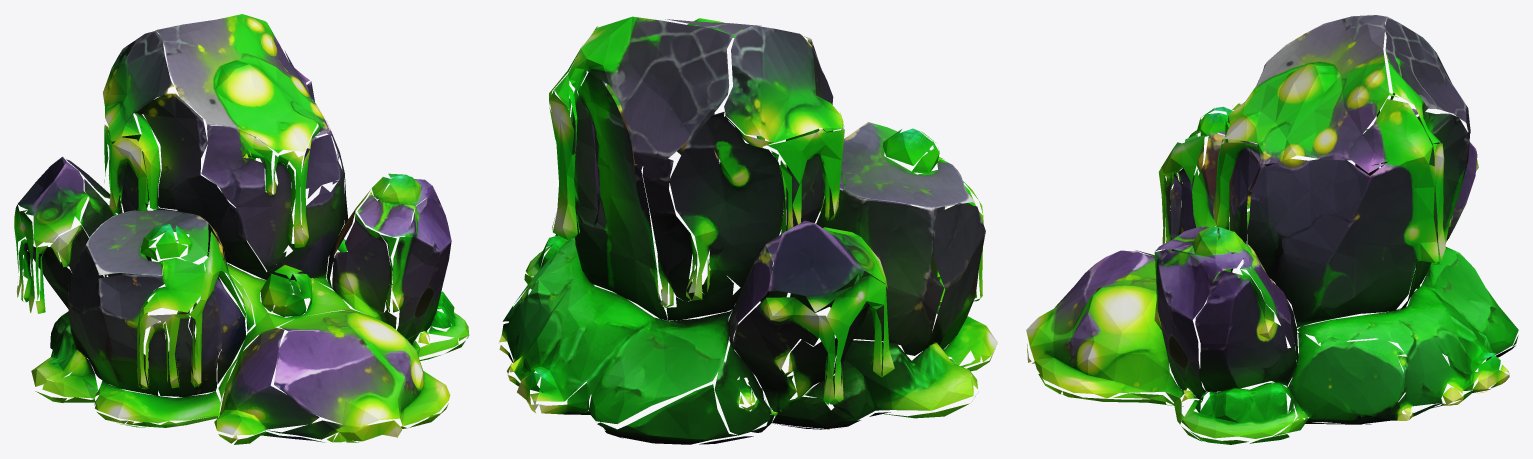
Rendered from defDecorRocks_lo.glb.
3 views of the same model, side by side, from view 1: azimuth 30°, elevation 25°; view 2: azimuth 150°, elevation 25°; view 3: azimuth 270°, elevation 25° (orthographic). The views are drawn at different scales.
Parts seen in each view (by area): view 1: geometry_0; view 2: geometry_0; view 3: geometry_0.
Boxes of the visible parts, x1,y1,x2,y2 form: geometry_0: [14, 14, 469, 444]; geometry_0: [499, 16, 997, 444]; geometry_0: [1026, 15, 1518, 444].
Bounding box in the file's own units: 0.9572 × 0.709 × 0.9998.
Materials: 1 (1 with a texture image).
